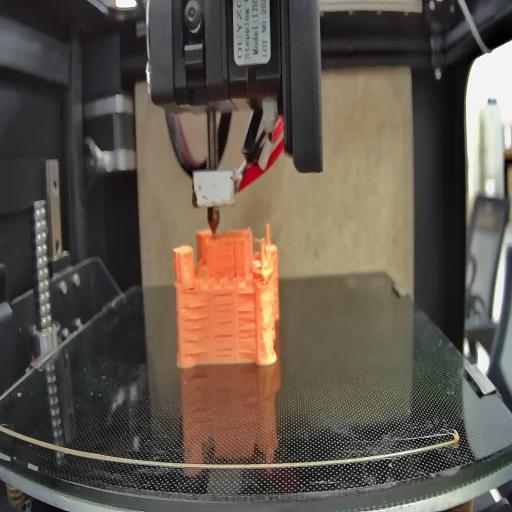cracks: (183, 303, 210, 363), (236, 290, 258, 353), (213, 291, 233, 326), (214, 333, 234, 356), (190, 280, 198, 296)
